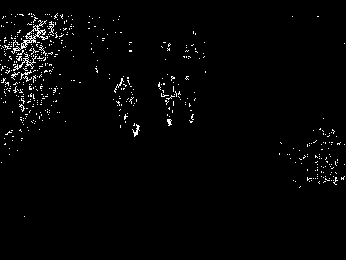person: (111, 74, 141, 139), (157, 70, 179, 129)
